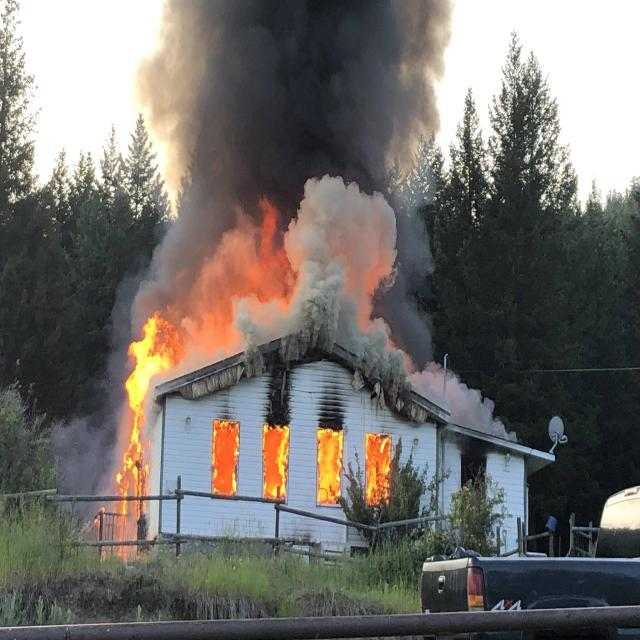Fire: (118, 311, 176, 517), (205, 407, 244, 511), (312, 420, 351, 516), (258, 417, 294, 519), (364, 428, 396, 512)
Smoke: (148, 0, 460, 183), (283, 172, 386, 360), (386, 342, 512, 450)
